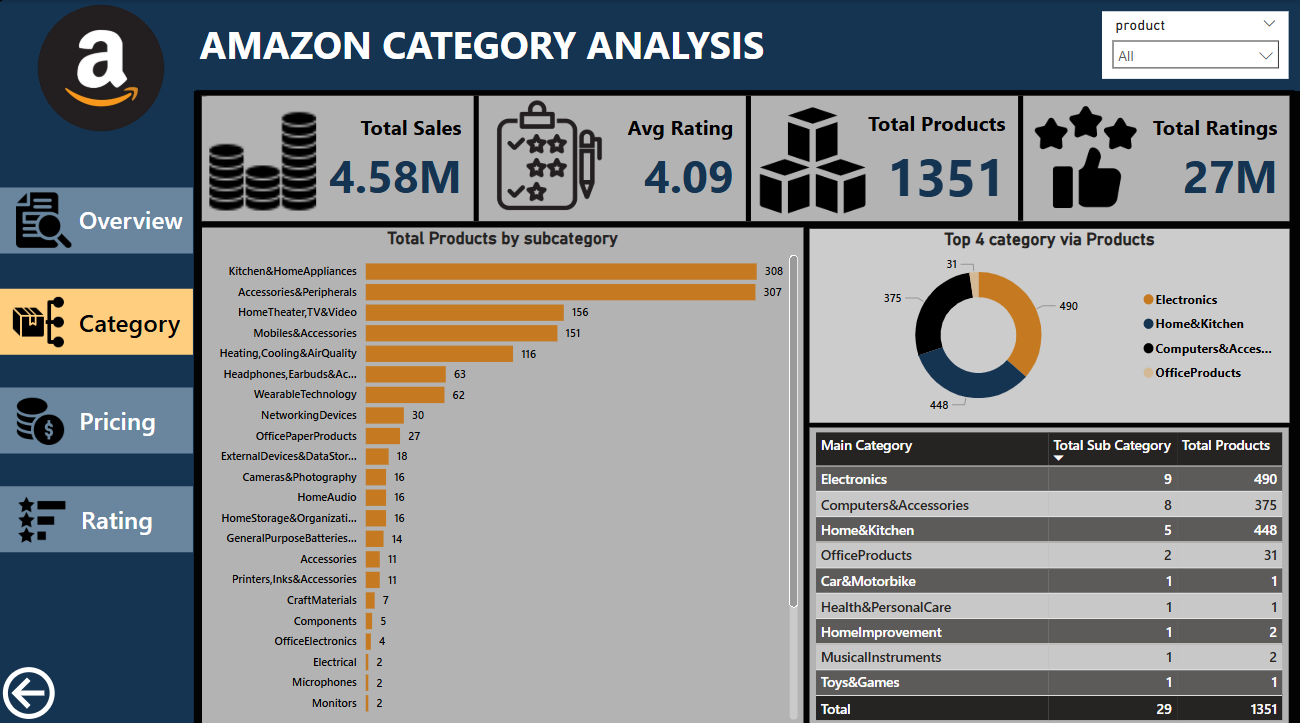

The page's visual inventory and layout, read from the dashboard file:
{"tool":"powerbi","page":{"name":"Category_analysis","canvas":[1280,720],"ordinal":2},"visuals":[{"type":"group","id":"g1","title":"Group 3","box":[0,0,1280.3,714.4],"z":0},{"type":"group","id":"g2","title":"Group 2","box":[0,0,1280.3,714.4],"z":0,"group":"g1"},{"type":"shape","box":[4.3,0,1276,89.3],"z":0,"group":"g5"},{"type":"group","id":"g3","title":"Group 4","box":[194.8,88,1078,135.6],"z":0,"group":"g4"},{"type":"image","box":[2.5,0,198.8,133.7],"z":1000},{"type":"textbox","box":[193.3,13,702.6,73.6],"z":1000,"group":"g5"},{"type":"image","box":[703.3,101,194.6,114],"z":1000,"group":"g4"},{"type":"shape","box":[0,184.1,193,65],"z":1000,"group":"g1"},{"type":"shape","box":[62,23.5,83.7,72.2],"z":2000,"group":"g1"},{"type":"group","id":"g4","title":"Group 5","box":[194.8,82.2,1078,148.6],"z":2000},{"type":"image","box":[203.6,82.2,115,148.6],"z":2000,"group":"g4"},{"type":"cardVisual","fields":{"Data":["ketan amazon_cleaned_data.Total Sale","ketan amazon_cleaned_data.Avg_rating","ketan amazon_cleaned_data.Total_products","ketan amazon_cleaned_data.Total_ratings"]},"box":[194.8,88,1078,135.6],"z":2000,"group":"g3"},{"type":"slicer","fields":{"Values":["ketan amazon_cleaned_data.product"]},"box":[1085,11.5,183.2,66.4],"z":3000},{"type":"image","box":[959.8,99.5,218.2,109.6],"z":3000,"group":"g4"},{"type":"image","box":[12.3,184.1,67.5,63.8],"z":3000,"group":"g1"},{"type":"group","id":"g5","title":"Group 1","box":[4.3,0,1276,89.3],"z":4000,"group":"g2"},{"type":"image","box":[430.6,92.3,222.6,121.2],"z":4000,"group":"g4"},{"type":"shape","box":[0,283.4,193,65],"z":4000},{"type":"shape","box":[0.2,476.8,193,65],"z":5000},{"type":"shape","box":[0,1.4,193.3,713],"z":5008,"group":"g2"},{"type":"shape","box":[0,380.4,193,65],"z":6000},{"type":"group","id":"g6","title":"Group 6","box":[6.1,182.5,190.2,358.3],"z":7000},{"type":"image","box":[7.4,279.8,66.3,72.4],"z":8000},{"type":"image","box":[16,477.3,56.4,65],"z":9000},{"type":"actionButton","box":[6.1,182.5,180.4,65],"z":10000,"group":"g6"},{"type":"image","box":[14.7,381.6,56.4,63.8],"z":10000},{"type":"barChart","title":"Total Products by subcategory","fields":{"Y":["ketan amazon_cleaned_data.Total_products"],"Category":["ketan amazon_cleaned_data.category_new"]},"box":[201.2,223.3,590.2,488.3],"z":11000},{"type":"shape","box":[200.9,94.1,14.7,122],"z":11502,"group":"g3"},{"type":"donutChart","title":"Top 4 category via Products","fields":{"Category":["ketan amazon_cleaned_data.broad_category"],"Y":["ketan amazon_cleaned_data.Total Products"]},"box":[797.3,224,471,190],"z":12000},{"type":"actionButton","box":[8.6,284.3,175.5,62.6],"z":12000,"group":"g6"},{"type":"tableEx","fields":{"Values":["ketan amazon_cleaned_data.broad_category","ketan amazon_cleaned_data.Total Sub Category","ketan amazon_cleaned_data.Total Products"]},"box":[797.3,420,470.7,292],"z":13000},{"type":"actionButton","box":[40.5,381.3,155.8,62.6],"z":14000,"group":"g6"},{"type":"actionButton","box":[0,649.1,81,62.6],"z":15001},{"type":"actionButton","box":[45.4,478.2,144.8,62.6],"z":16000,"group":"g6"}]}

Visuals, with their boxes in screenshot pixels (x1, y1, x2, y2), scaled from the page's 1280x720 canvas onto the 1300x723 screenshot:
"Group 3" group: 0, 0, 1299, 717
"Group 2" group: 0, 0, 1299, 717
shape: 4, 0, 1299, 90
"Group 4" group: 198, 88, 1293, 225
image: 3, 0, 204, 134
textbox: 196, 13, 910, 87
image: 714, 101, 912, 216
shape: 0, 185, 196, 250
shape: 63, 24, 148, 96
"Group 5" group: 198, 83, 1293, 232
image: 207, 83, 324, 232
cardVisual - ketan amazon_cleaned_data.Total Sale x ketan amazon_cleaned_data.Avg_rating: 198, 88, 1293, 225
slicer - ketan amazon_cleaned_data.product: 1102, 12, 1288, 78
image: 975, 100, 1196, 210
image: 12, 185, 81, 249
"Group 1" group: 4, 0, 1299, 90
image: 437, 93, 663, 214
shape: 0, 285, 196, 350
shape: 0, 479, 196, 544
shape: 0, 1, 196, 717
shape: 0, 382, 196, 447
"Group 6" group: 6, 183, 199, 543
image: 8, 281, 75, 354
image: 16, 479, 74, 545
actionButton: 6, 183, 189, 249
image: 15, 383, 72, 447
"Total Products by subcategory" barChart: 204, 224, 804, 715
shape: 204, 94, 219, 217
"Top 4 category via Products" donutChart: 810, 225, 1288, 416
actionButton: 9, 285, 187, 348
tableEx - ketan amazon_cleaned_data.broad_category x ketan amazon_cleaned_data.Total Sub Category: 810, 422, 1288, 715
actionButton: 41, 383, 199, 446
actionButton: 0, 652, 82, 715
actionButton: 46, 480, 193, 543
